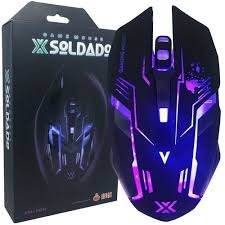mouse: (113, 2, 221, 222)
